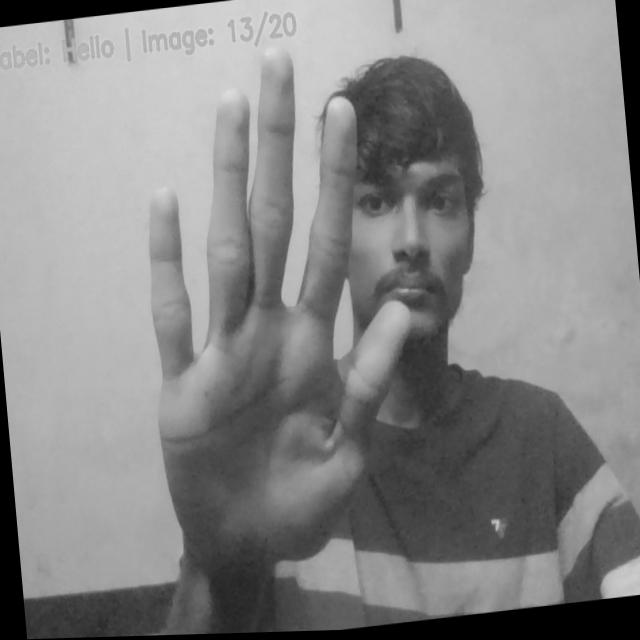Hello: (119, 32, 432, 586)
